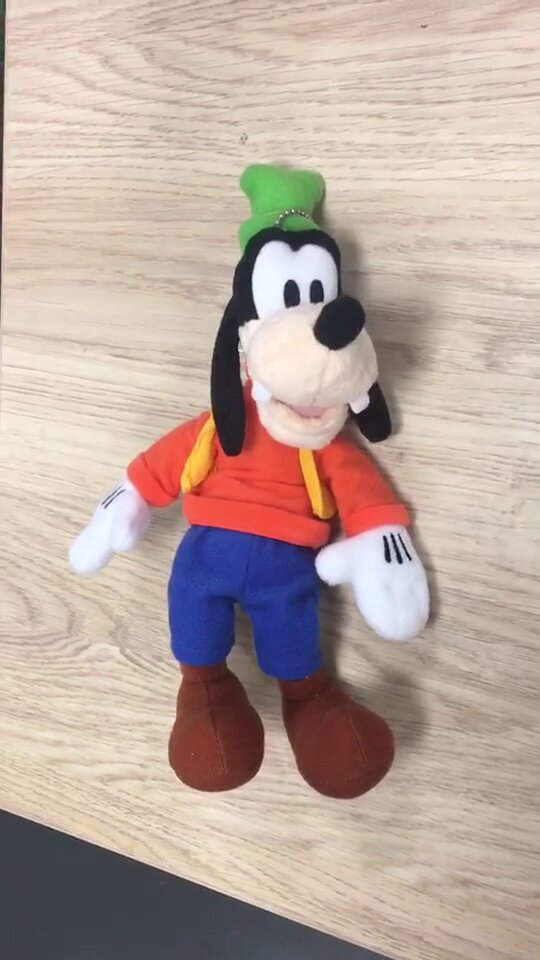goofy: (63, 158, 437, 804)
